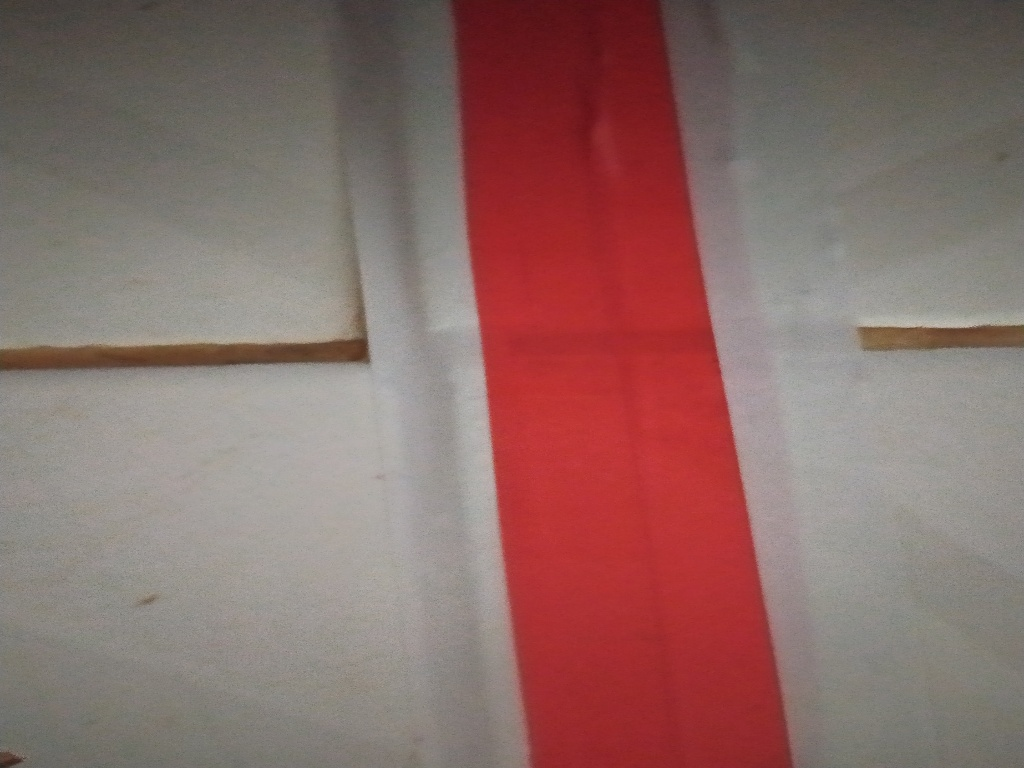reta: (326, 9, 930, 768)
